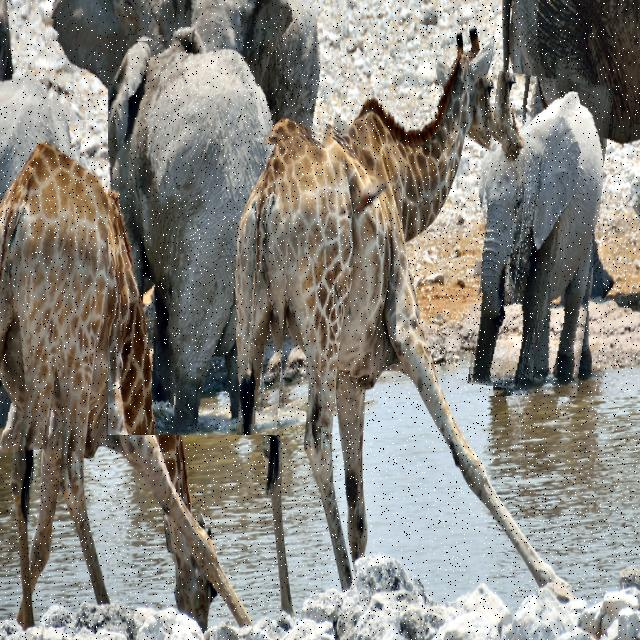elephant: (108, 40, 300, 435), (466, 74, 603, 396), (0, 70, 90, 458), (164, 0, 341, 141), (45, 0, 190, 121)
